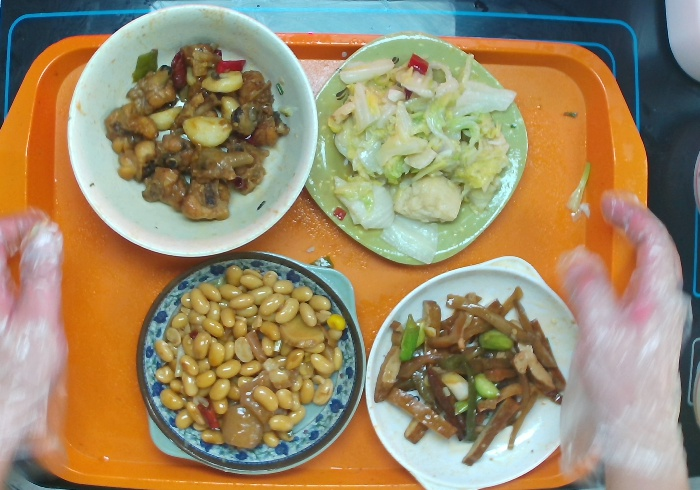NLDX-Bai_Se_Shuang_Er_Die: (367, 252, 595, 490)
NLDX-Bai_Se_Yuan_Wan: (63, 1, 318, 250)
NLDX-Lv_Hua_Fang_Die: (299, 34, 532, 264)
NLDX-Qing_Hua_Shuang_Er_Die: (128, 257, 368, 478)
